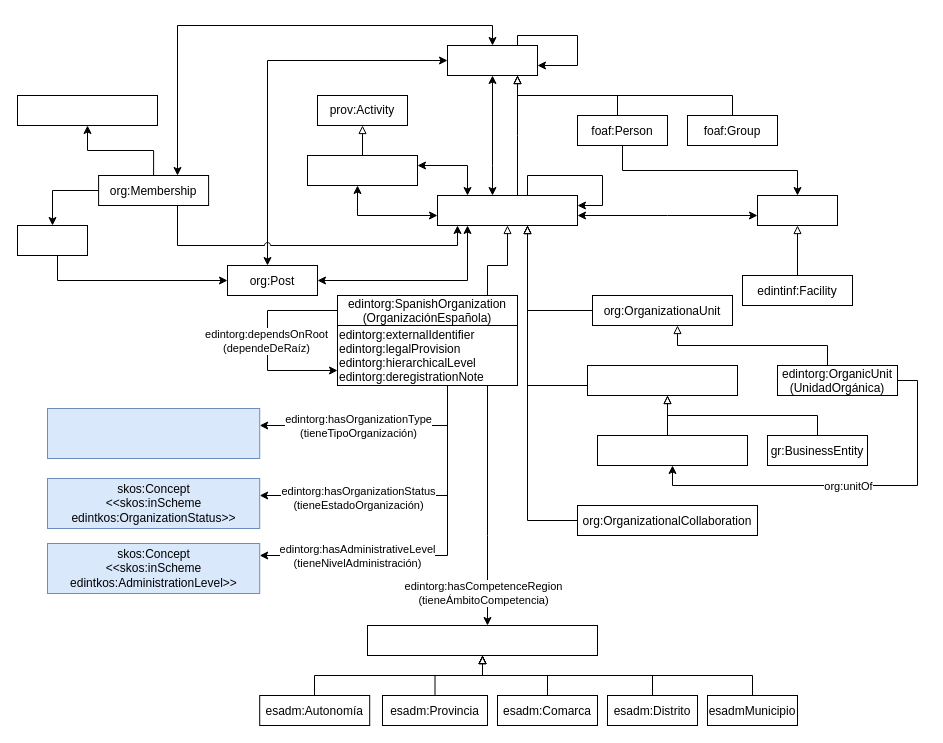
The diagram is 943 pixels wide and 743 high, and some of its shapes have lost their labels. Here are the shapes that lost their labels. From the top down, the centre of each, then its label:
(x=492, y=60): foaf:Agent
(x=87, y=110): time:Interval
(x=362, y=170): org:ChangeEvent
(x=507, y=210): foaf:Organization org:Organization
(x=797, y=210): org:Site
(x=52, y=240): org:Role
(x=662, y=380): org:FormalOrganization
(x=153, y=433): skos:Concept <<skos:inScheme edintkos :OrganizationType>>
(x=672, y=450): edintorg:PublicLawEntity (EntidadDerechoPúblico)
(x=482, y=640): dbo:GovermentalAdministrativeRegion
